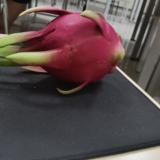pitaya: (10, 8, 124, 92)
